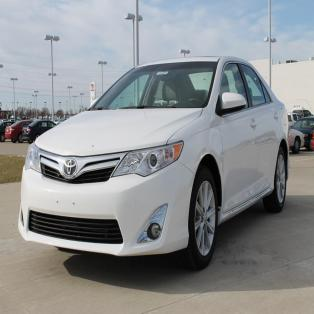Auto: (16, 56, 289, 270)
